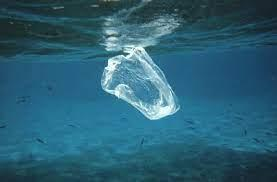Trash: (84, 31, 188, 127)
